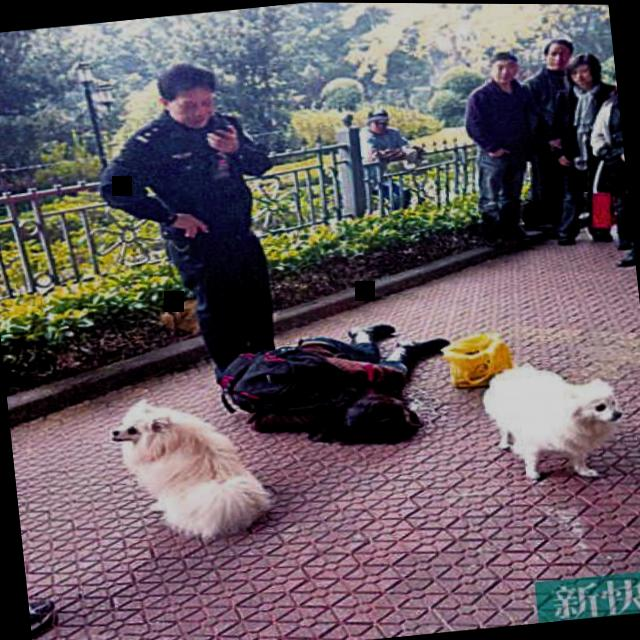Fall-Detected: (222, 299, 460, 472)
